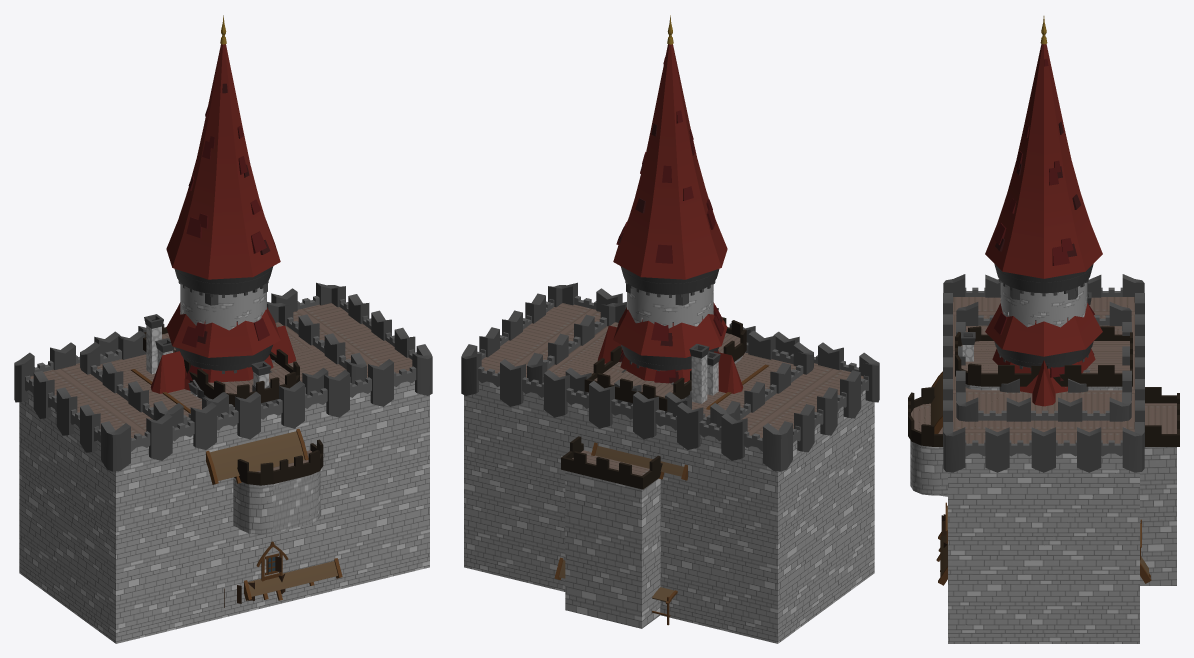
Rendered from kit.glb.
3 views of the same model, side by side, from view 1: azimuth 30°, elevation 25°; view 2: azimuth 150°, elevation 25°; view 3: azimuth 270°, elevation 25° (orthographic).
Parts seen in each view (by area): view 1: castle_part_019, tower_03, castle_part_020, castle_part_022, house_09, tower_04, tower_01, castle_part_023, house_08, castle_part_021, castle_part_013, tower_06; view 2: castle_part_019, castle_part_022, tower_03, castle_part_020, tower_04, castle_part_023, tower_01, house_09, castle_part_013, tower_06; view 3: castle_part_019, tower_03, castle_part_022, castle_part_023, castle_part_020, tower_04, tower_01, castle_part_021, house_09, tower_06, house_08, castle_part_013 (+2 smaller).
Boxes of the visible parts, bbox=[...] form: castle_part_019: bbox=[14, 282, 432, 643]; tower_03: bbox=[166, 15, 280, 323]; castle_part_020: bbox=[80, 302, 366, 427]; castle_part_022: bbox=[233, 439, 323, 534]; house_09: bbox=[131, 314, 308, 607]; tower_04: bbox=[166, 302, 280, 365]; tower_01: bbox=[174, 266, 273, 330]; castle_part_023: bbox=[143, 324, 299, 406]; house_08: bbox=[244, 541, 342, 600]; castle_part_021: bbox=[100, 330, 346, 422]; castle_part_013: bbox=[150, 325, 296, 393]; tower_06: bbox=[175, 350, 273, 390]; castle_part_019: bbox=[461, 282, 879, 643]; castle_part_022: bbox=[561, 436, 662, 628]; tower_03: bbox=[613, 15, 727, 326]; castle_part_020: bbox=[527, 302, 813, 427]; tower_04: bbox=[613, 302, 727, 365]; castle_part_023: bbox=[584, 317, 746, 414]; tower_01: bbox=[620, 266, 719, 328]; house_09: bbox=[591, 308, 768, 625]; castle_part_013: bbox=[597, 325, 743, 393]; tower_06: bbox=[619, 350, 718, 383]; castle_part_019: bbox=[943, 274, 1144, 643]; tower_03: bbox=[985, 16, 1102, 326]; castle_part_022: bbox=[908, 387, 1179, 585]; castle_part_023: bbox=[955, 326, 1132, 390]; castle_part_020: bbox=[956, 302, 1131, 421]; tower_04: bbox=[985, 302, 1102, 363]; tower_01: bbox=[995, 266, 1092, 327]; castle_part_021: bbox=[956, 322, 1131, 413]; house_09: bbox=[931, 292, 1091, 547]; tower_06: bbox=[992, 348, 1095, 393]; house_08: bbox=[936, 502, 1151, 585]; castle_part_013: bbox=[1032, 360, 1055, 406].
Size of the model in its own units: 16.61 by 27.22 by 12.13.
Materials: 28 (6 with a texture image).
